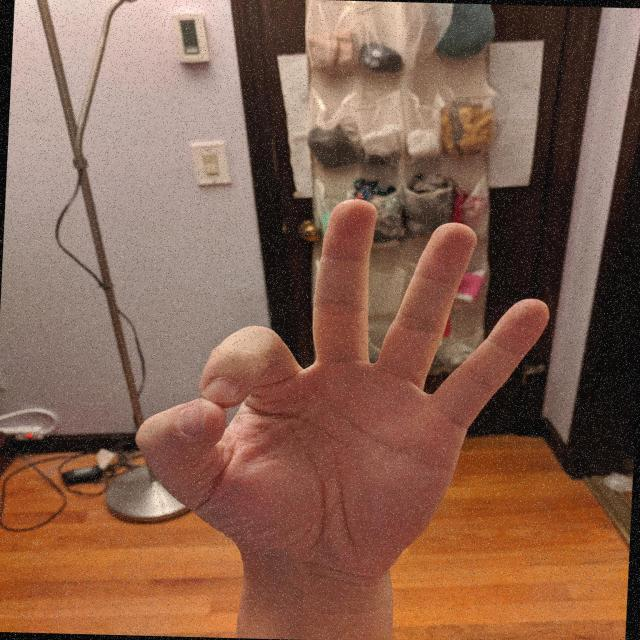F: (120, 189, 562, 594)
